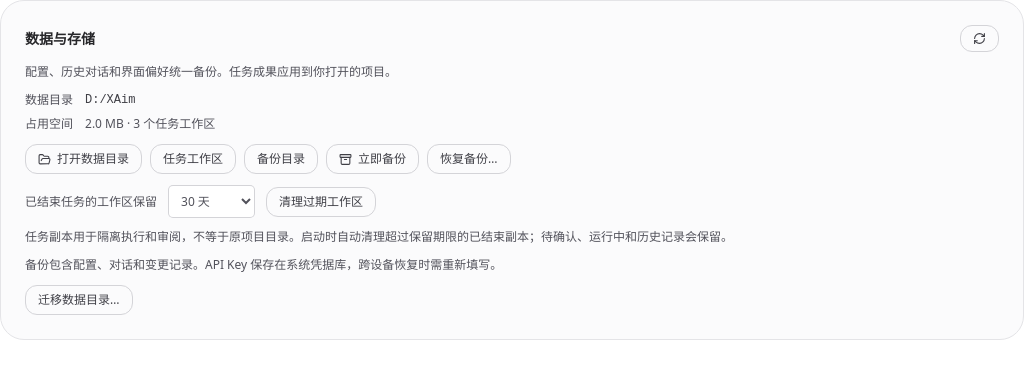
shows the real data directory and reports the completed backup path
This screenshot has width=1024, height=385.
Expected: the text "D:/XAim" is shown, [85, 93, 135, 107]
Expected: the text "2.0 MB · 3 个任务工作区" is shown, [85, 115, 215, 132]
Step 1. Click the button "立即备份" → (372, 159), box [326, 144, 419, 174]
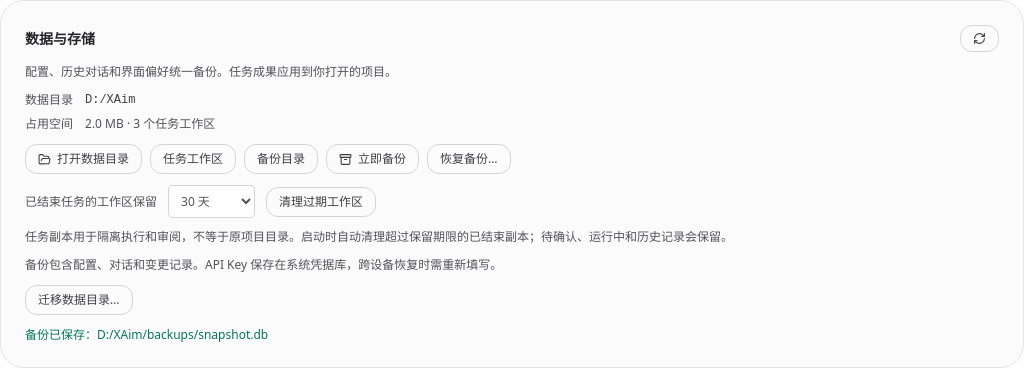
Now the text "备份已保存：D:/XAim/backups/snapshot.db" is shown, box [25, 326, 268, 343]
